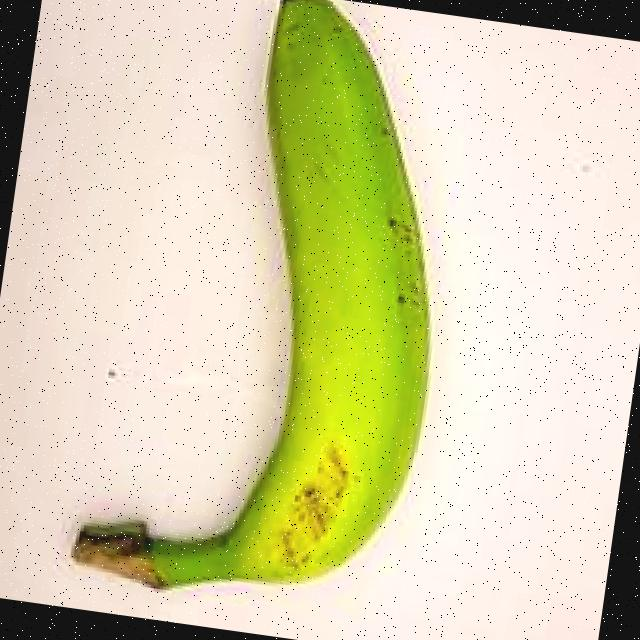Unripe: (59, 0, 508, 638)
